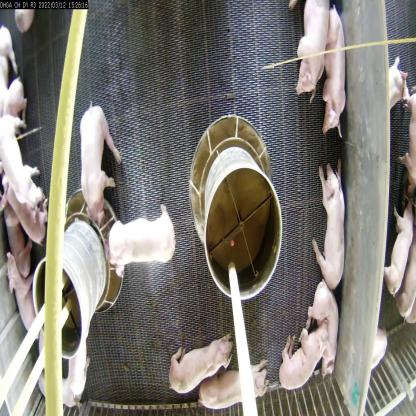Pig: (314, 157, 353, 297), (77, 104, 122, 220), (169, 323, 234, 402), (315, 12, 355, 140), (111, 200, 181, 270), (0, 110, 48, 212), (303, 274, 343, 388), (266, 322, 330, 392), (195, 362, 270, 415), (0, 247, 40, 344), (292, 0, 326, 103), (51, 343, 92, 413), (0, 186, 47, 245)
